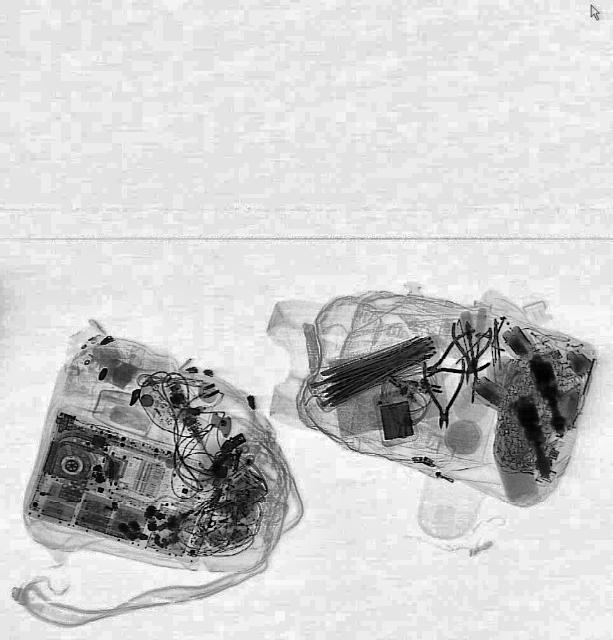Pliers: (415, 326, 494, 390), (447, 321, 493, 404), (422, 356, 466, 428)
